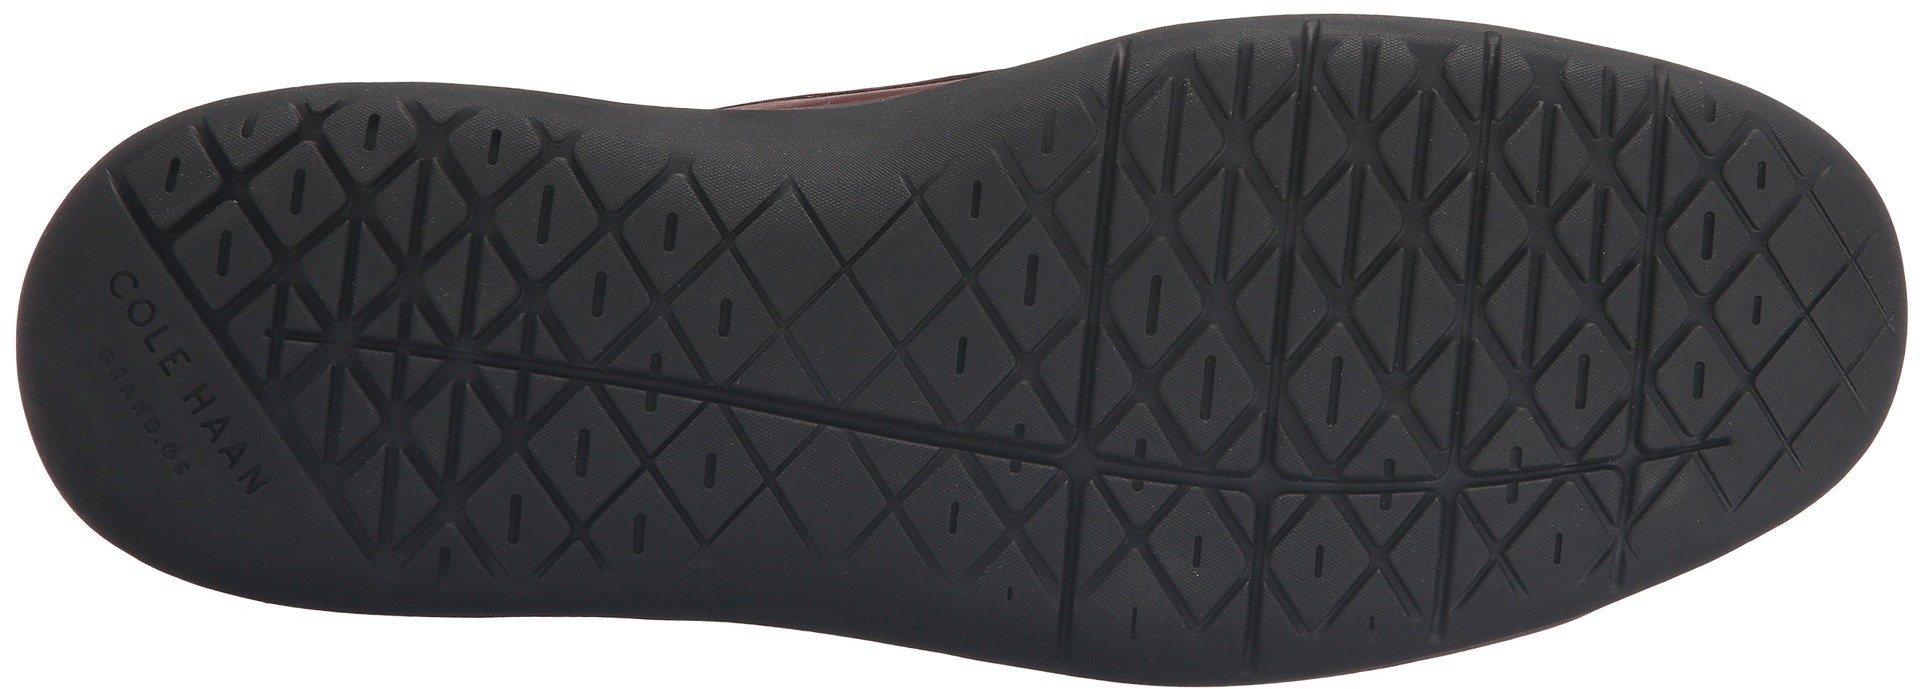quad: (740, 157, 964, 366)
text: (96, 297, 196, 393), (186, 403, 253, 483)
